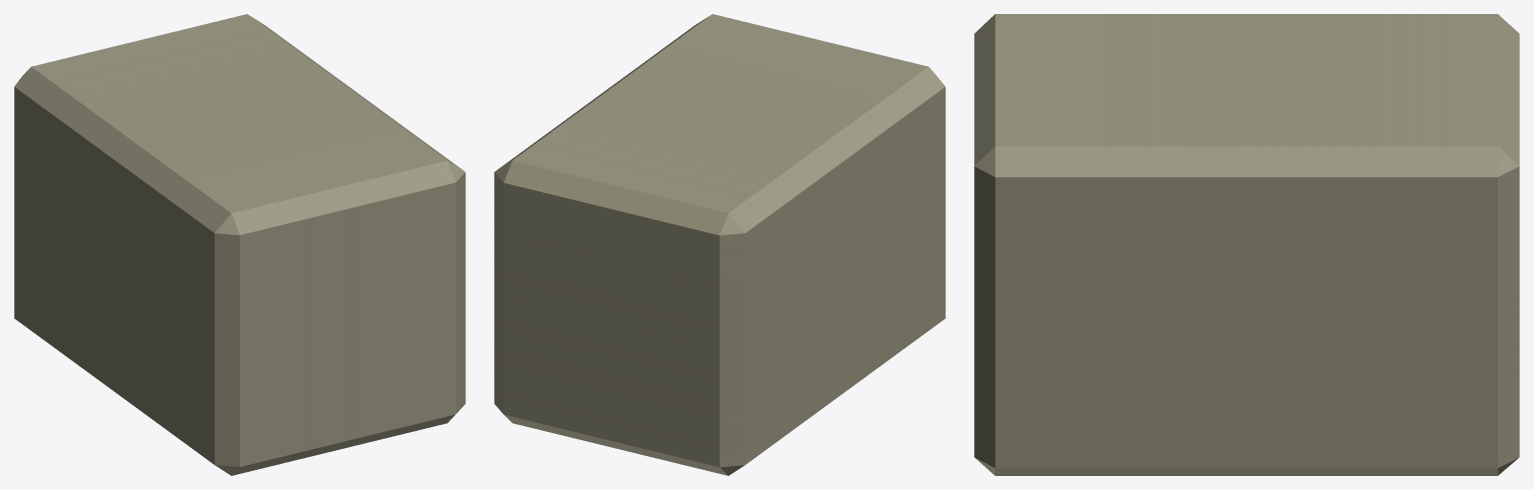
The model's file is Cargo_1_LOD1.fbx.
The picture shows the model from 3 angles, left to right: view 1: azimuth 30°, elevation 25°; view 2: azimuth 150°, elevation 25°; view 3: azimuth 270°, elevation 25°; orthographic projection. The views are drawn at different scales.
Visible parts, largest first — view 1: pCube1874; view 2: pCube1874; view 3: pCube1874.
Part boxes in pixels (x1,y1,x2,y2): pCube1874: (14, 14, 465, 475); pCube1874: (494, 14, 945, 475); pCube1874: (974, 14, 1519, 475).
Size of the model in its own units: 150 by 150 by 225.
